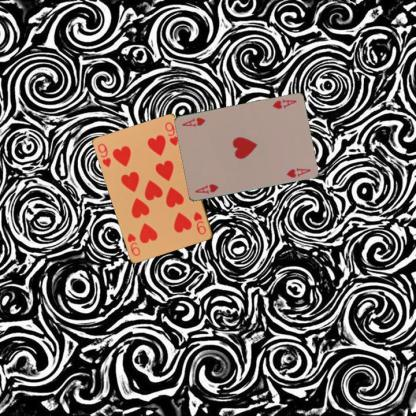9h: (95, 141, 112, 169), (192, 209, 208, 236)
Ah: (192, 182, 221, 196), (270, 96, 297, 110)
